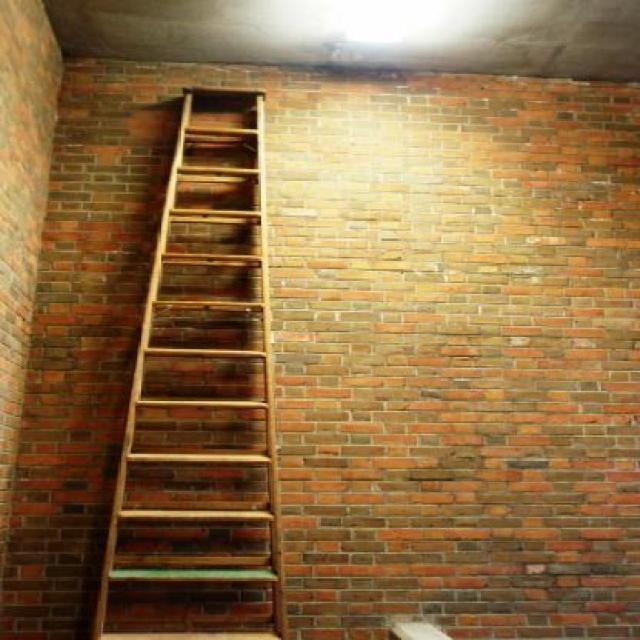stair: (86, 83, 292, 639)
